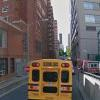Bus: (24, 55, 75, 100)
